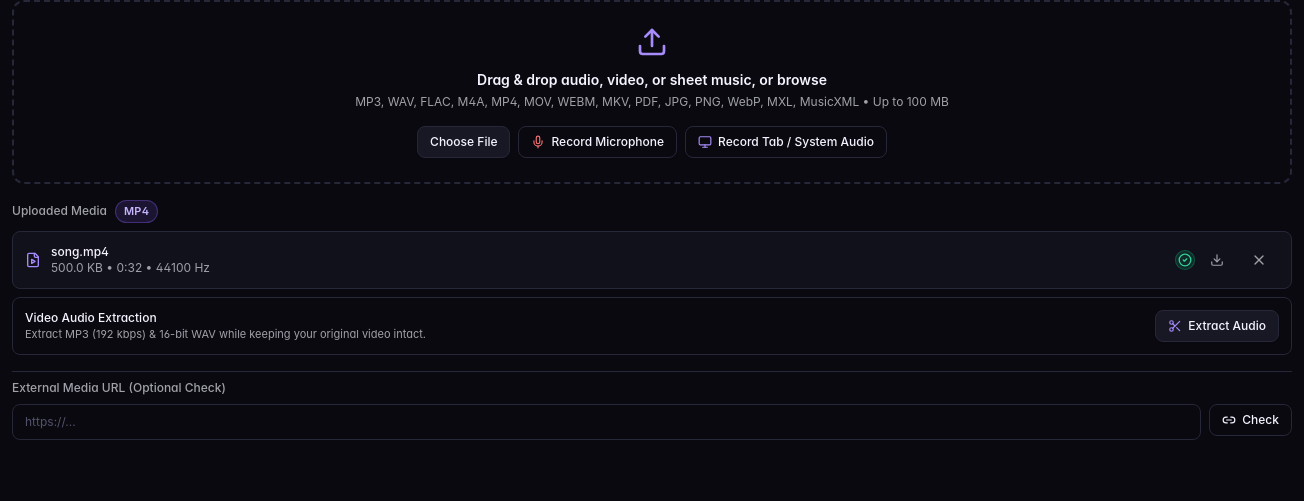
Scenario: Video Audio Extraction UI & ExportCenter › displays clear extraction error when video has no audio stream or FFmpeg fails
What coordinates should you click on to do the following:
click the button "Extract Audio"
I would click on:
 (1217, 326)
Its box is [1155,310,1279,342].
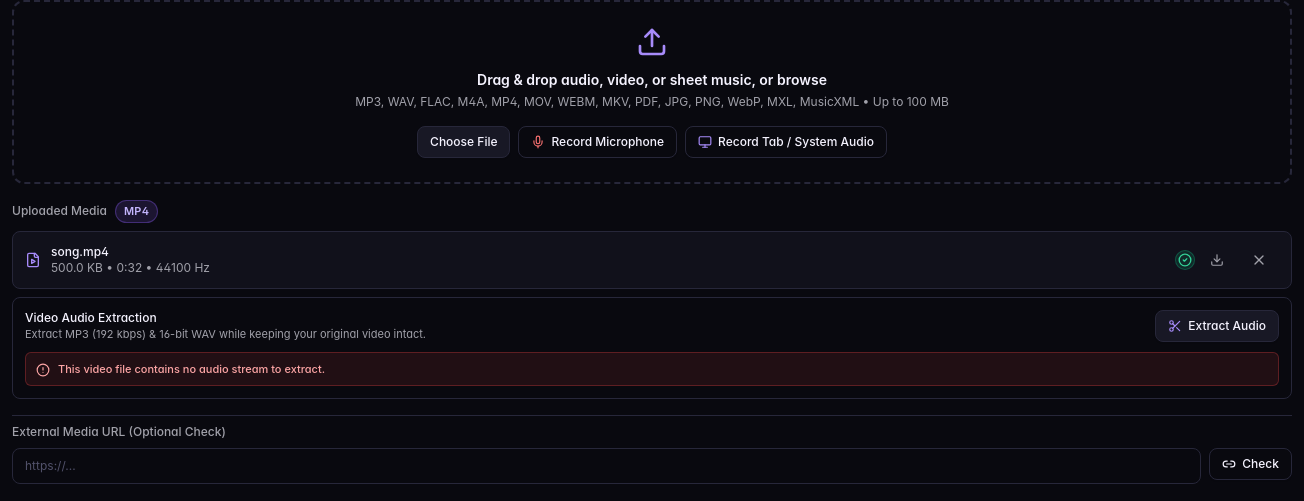
Expected: the message shows "contains no audio stream to extract", [58,362,325,376]
